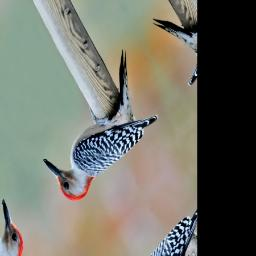Woodpecker: (25, 35, 173, 222)
